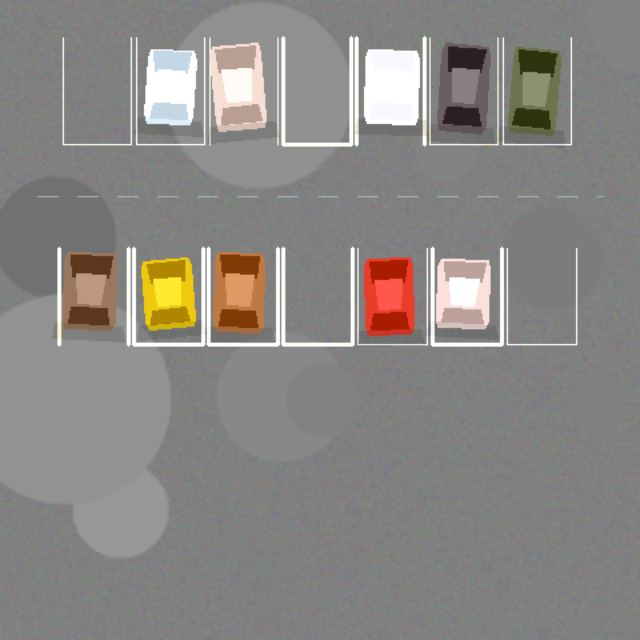space-empty: (63, 37, 131, 144), (283, 37, 351, 144), (283, 248, 352, 344), (507, 248, 576, 344)
space-occupied: (136, 37, 204, 144), (209, 37, 277, 144), (356, 37, 424, 144), (429, 37, 497, 144), (503, 37, 571, 144), (133, 248, 203, 344), (357, 248, 427, 344), (59, 248, 128, 344), (208, 248, 277, 344), (432, 248, 501, 344)
